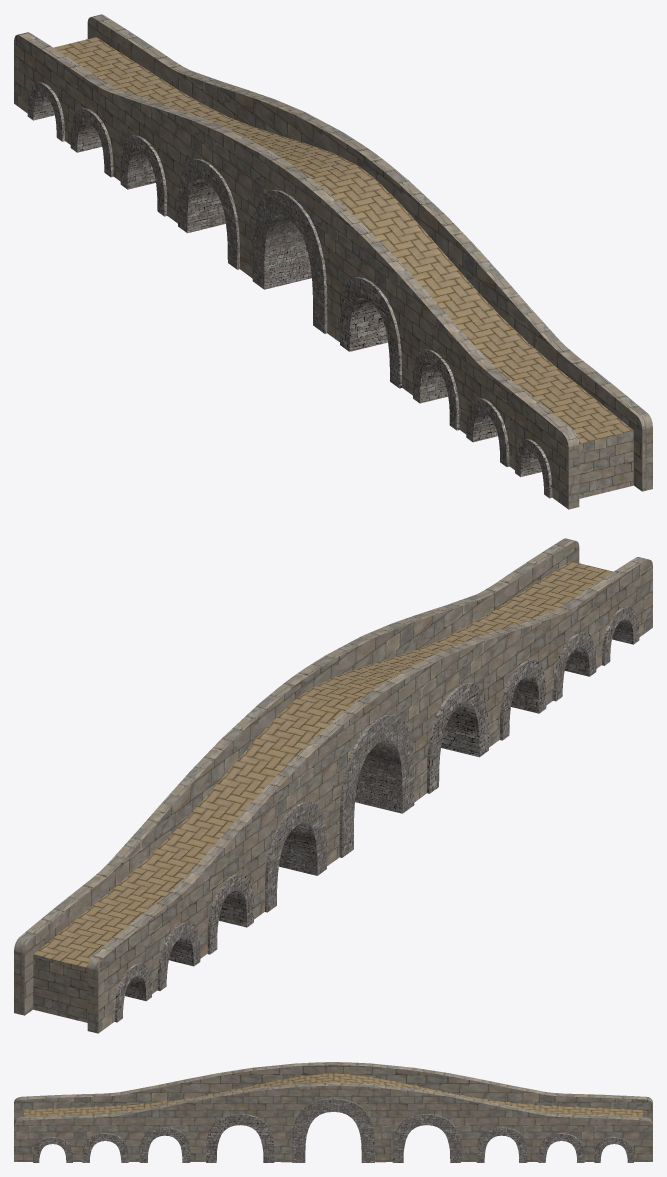
Rendered from Low_Poly_Bridge_02217be5.glb.
3 views of the same model, one above another, from view 1: azimuth 30°, elevation 25°; view 2: azimuth 150°, elevation 25°; view 3: azimuth 270°, elevation 25° (orthographic). The views are drawn at different scales.
Parts seen in each view (by area): view 1: Plane.001_Brick_0, Plane.001_White-Brick_0, Plane.001_Brick-Concrete_0; view 2: Plane.001_Brick_0, Plane.001_White-Brick_0, Plane.001_Brick-Concrete_0; view 3: Plane.001_Brick_0, Plane.001_White-Brick_0, Plane.001_Brick-Concrete_0.
Part boxes in pixels (bbox=[...]): Plane.001_Brick_0: bbox=[14, 14, 652, 509]; Plane.001_White-Brick_0: bbox=[27, 82, 552, 498]; Plane.001_Brick-Concrete_0: bbox=[54, 37, 633, 443]; Plane.001_Brick_0: bbox=[14, 538, 652, 1033]; Plane.001_White-Brick_0: bbox=[114, 606, 639, 1022]; Plane.001_Brick-Concrete_0: bbox=[33, 561, 612, 967]; Plane.001_Brick_0: bbox=[14, 1062, 652, 1162]; Plane.001_White-Brick_0: bbox=[33, 1098, 633, 1162]; Plane.001_Brick-Concrete_0: bbox=[24, 1073, 642, 1117].
Bounding box in the file's own units: 914 × 1292 × 9786.
Materials: 3 (3 with a texture image).
